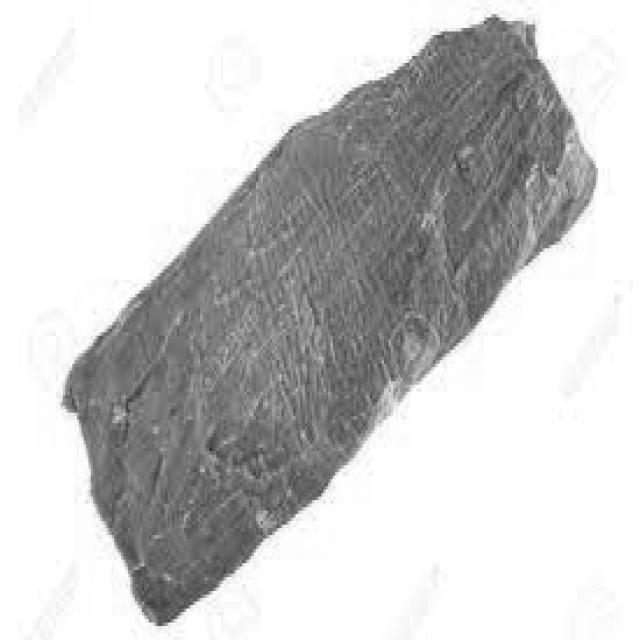thit than: (58, 95, 603, 416)
